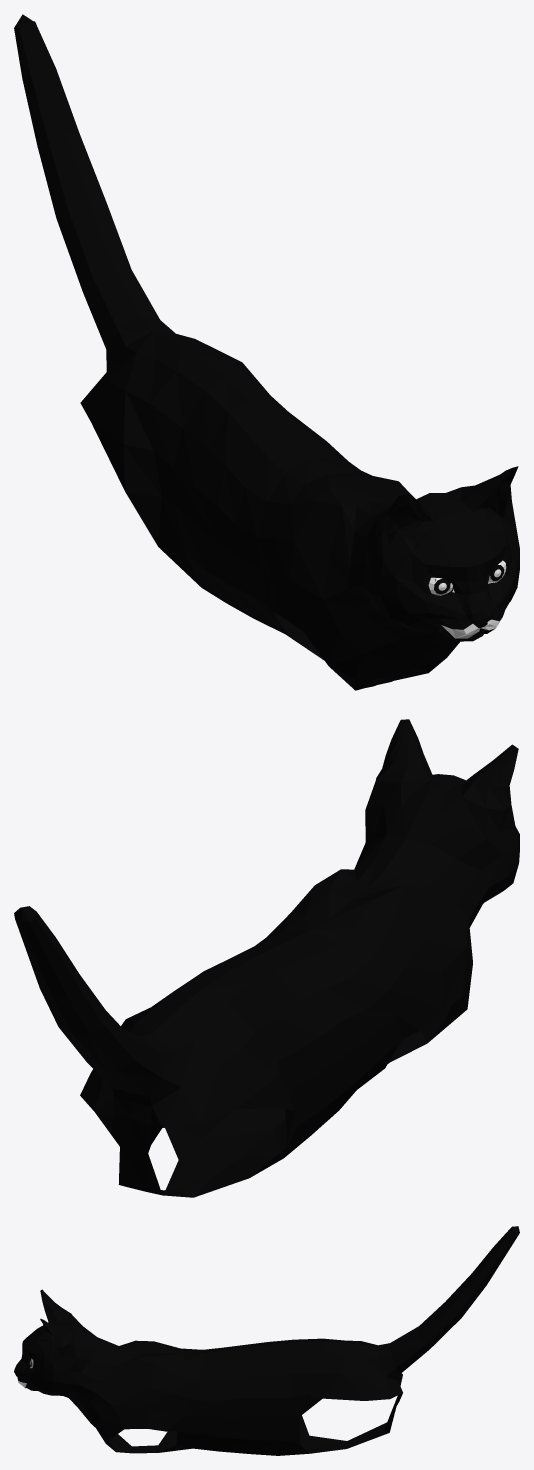
File: tronco.obj
3 views of the same model, one above another, from view 1: azimuth 30°, elevation 25°; view 2: azimuth 150°, elevation 25°; view 3: azimuth 270°, elevation 25° (orthographic). The views are drawn at different scales.
Parts seen in each view (by area): view 1: cat_01_color05; view 2: cat_01_color05; view 3: cat_01_color05.
Boxes of the visible parts, bbox=[...] form: cat_01_color05: bbox=[14, 14, 519, 690]; cat_01_color05: bbox=[14, 719, 519, 1197]; cat_01_color05: bbox=[14, 1226, 519, 1455].
Size of the model in its own units: 0.6914 by 1.63 by 3.33.
Materials: 2 (2 with a texture image).
